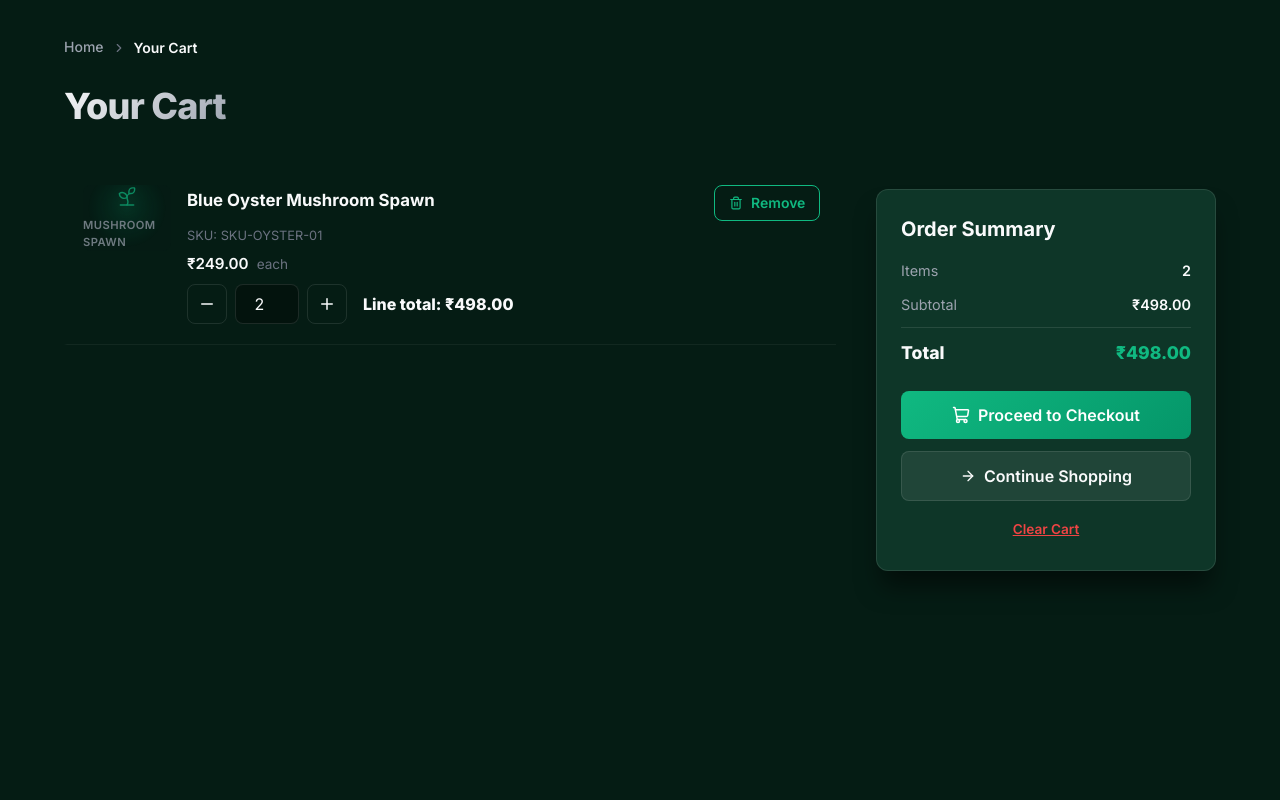
Test: CartPage (FD-11) › flags a line as unavailable when the backend rejects its product, keeping remove available
Expected: the element with test id "cart-item" is shown, [64, 165, 836, 345]
Click the button named "Increase quantity for Blue Oyster Mushroom Spawn".
click(327, 304)  # box [307, 284, 347, 324]
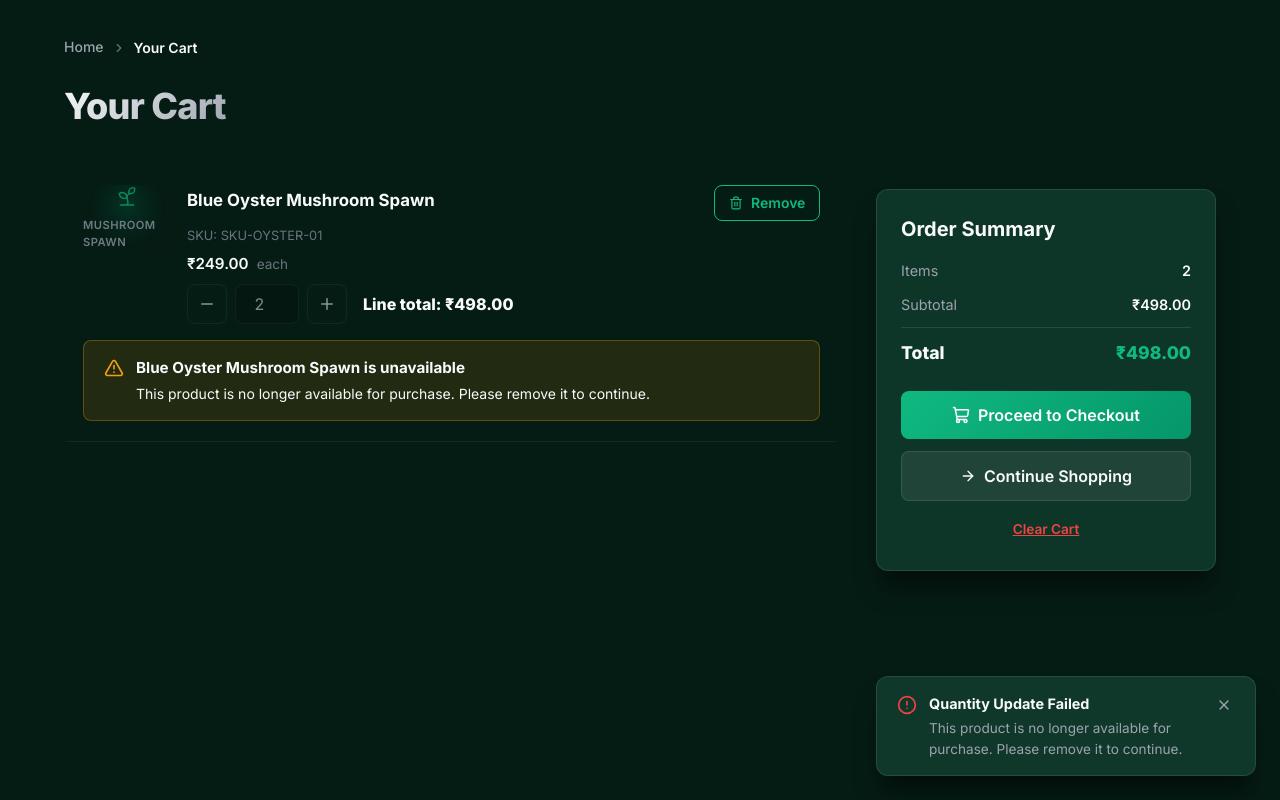
Expected: the button with aria-label "Remove Blue Oyster Mushroom Spawn from cart" is enabled, [714, 185, 820, 221]
Expected: the element with test id "cart-item-unavailable" is shown, [83, 340, 820, 422]
Expected: the button named "Increase quantity for Blue Oyster Mushroom Spawn" is disabled, [307, 284, 347, 324]
